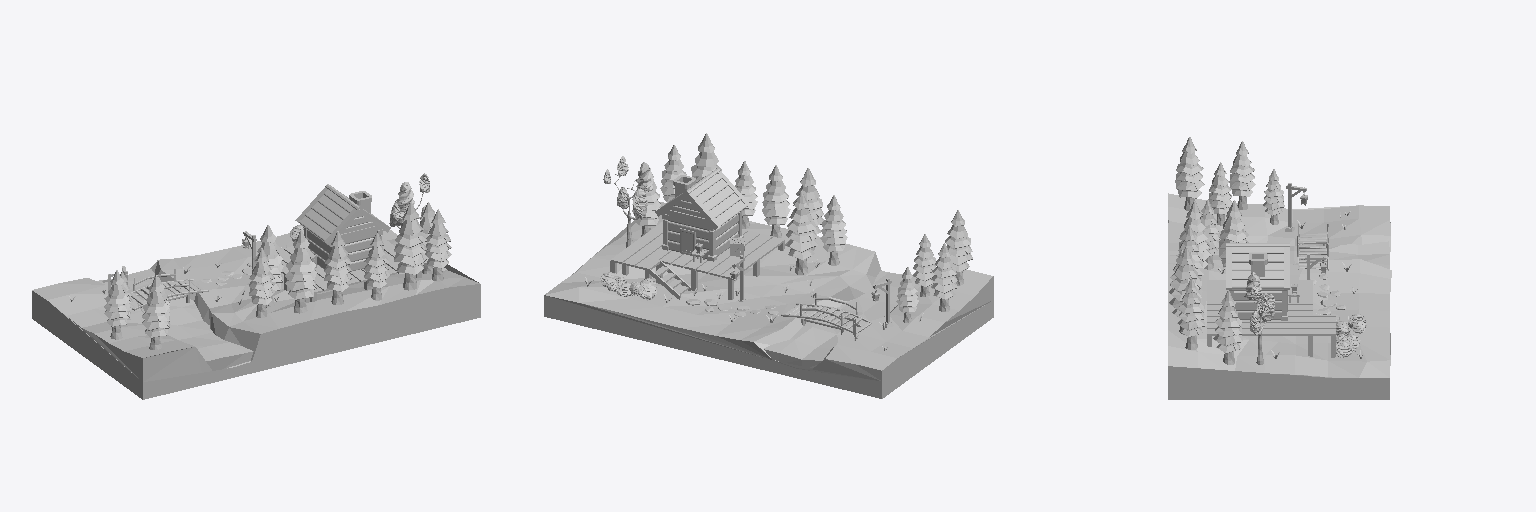
Rendered from Low poly House.obj.
3 renders of one model, left to right at view 1: azimuth 30°, elevation 25°; view 2: azimuth 150°, elevation 25°; view 3: azimuth 270°, elevation 25°, orthographic.
Parts seen in each view (by area): view 1: Ground, Roof, River, Tree.007, Tree.001, Tree.009, Tree.004, Floor_&_stairs, Tree.008, Tree.003, Tree.011, Tree.006 (+3 smaller); view 2: Ground, Roof, Floor_&_stairs, River, Tree, Tree.002, Bridge, Tree.004, Tree.003, Tree.009, Tree.011, Tree.010 (+6 smaller); view 3: Ground, Roof, Floor_&_stairs, River, Tree.005, Tree.009, Tree.002, Tree.008, Tree.011, Tree.007, Tree.010, Bridge (+4 smaller).
Boxes of the visible parts, x1,y1,x2,y2 form: Ground: [32, 230, 480, 399]; Roof: [295, 184, 390, 271]; River: [97, 269, 253, 370]; Tree.007: [394, 202, 427, 290]; Tree.001: [285, 230, 316, 313]; Tree.009: [142, 276, 169, 349]; Tree.004: [324, 231, 352, 304]; Floor_&_stairs: [278, 237, 421, 301]; Tree.008: [425, 209, 451, 281]; Tree.003: [249, 248, 274, 317]; Tree.011: [104, 270, 129, 339]; Tree.006: [364, 233, 389, 300]; Ground: [544, 202, 993, 398]; Roof: [655, 168, 749, 261]; Floor_&_stairs: [610, 222, 784, 299]; River: [764, 271, 920, 367]; Tree: [785, 191, 817, 274]; Tree.002: [603, 156, 653, 247]; Bridge: [781, 293, 871, 334]; Tree.004: [762, 165, 790, 237]; Tree.003: [820, 195, 847, 265]; Tree.009: [945, 210, 972, 285]; Tree.011: [931, 243, 957, 311]; Tree.010: [913, 234, 935, 296]; Ground: [1168, 193, 1391, 399]; Roof: [1226, 243, 1289, 320]; Floor_&_stairs: [1207, 280, 1335, 357]; River: [1169, 241, 1389, 268]; Tree.005: [1213, 290, 1242, 364]; Tree.009: [1175, 137, 1204, 210]; Tree.002: [1244, 272, 1274, 364]; Tree.008: [1177, 278, 1204, 349]; Tree.011: [1229, 141, 1255, 209]; Tree.007: [1169, 247, 1202, 334]; Tree.010: [1208, 162, 1232, 225]; Bridge: [1297, 223, 1328, 270].
Bounding box in the file's own units: 36.86 × 12.81 × 21.2.